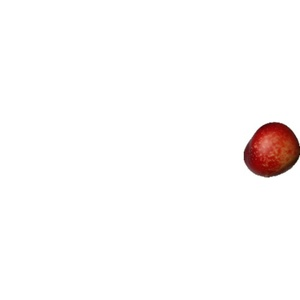nectarina: (244, 122, 300, 178)
